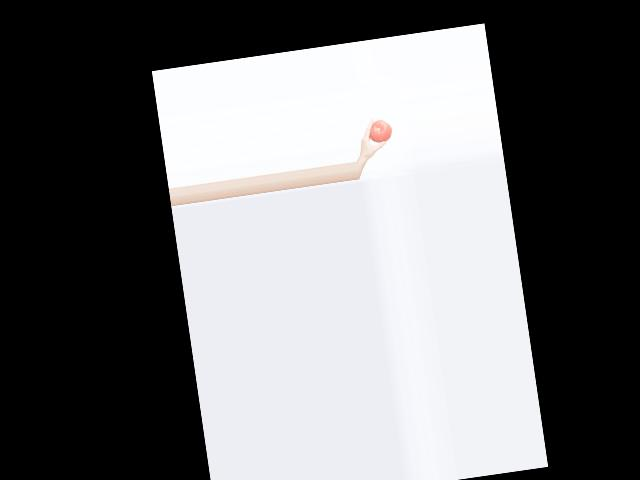tomato: (368, 118, 393, 143)
